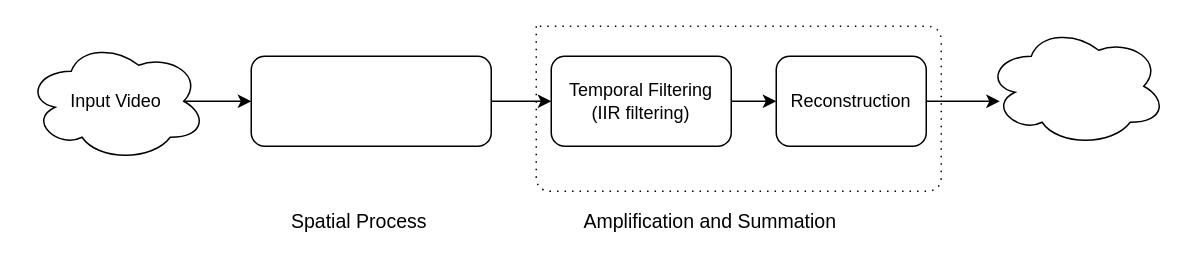
The diagram is 1193 pixels wide and 263 high, and some of its shapes have lost their labels. Here are the shapes that lost their labels. From the top down, the centre of each, then its label:
At point 370,100: "Gaussian Pyramid Based on Video Decomposition".
At point 1075,85: "Output Video".
